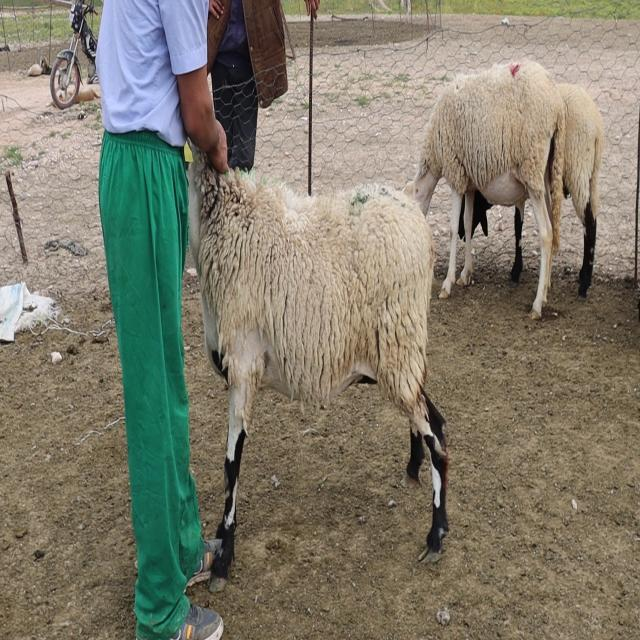Score_2: (189, 148, 449, 591)
